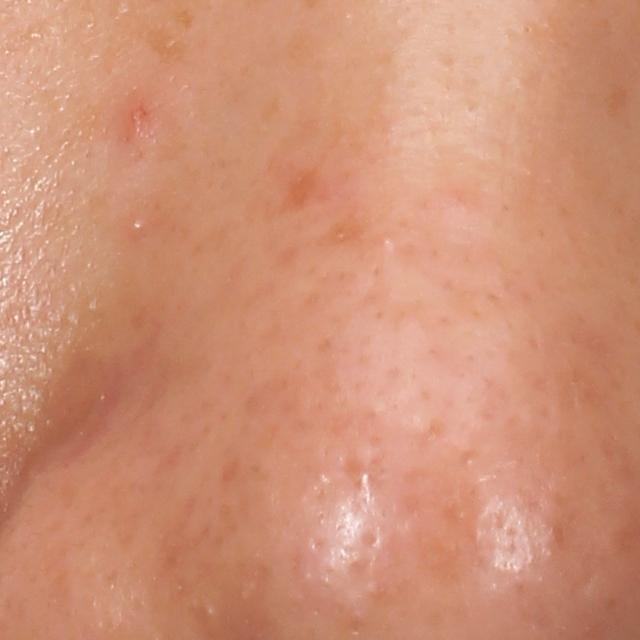melasma: (137, 17, 190, 77)
papule: (128, 102, 151, 131)
